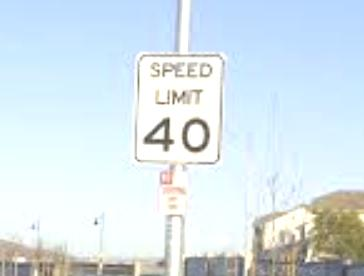40 MPH: (137, 56, 221, 159)
